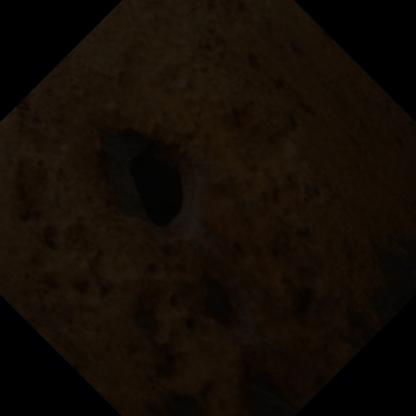burst: (97, 122, 201, 240)
